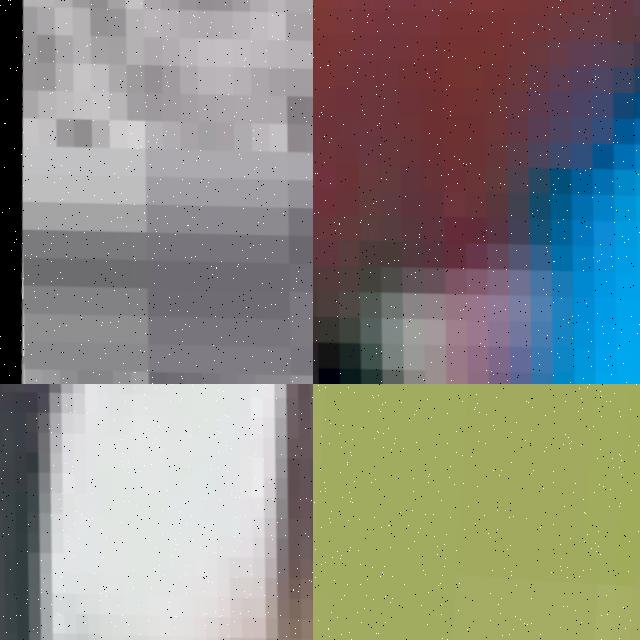0: (0, 0, 313, 384)
drone: (313, 0, 640, 384), (0, 384, 313, 640)
